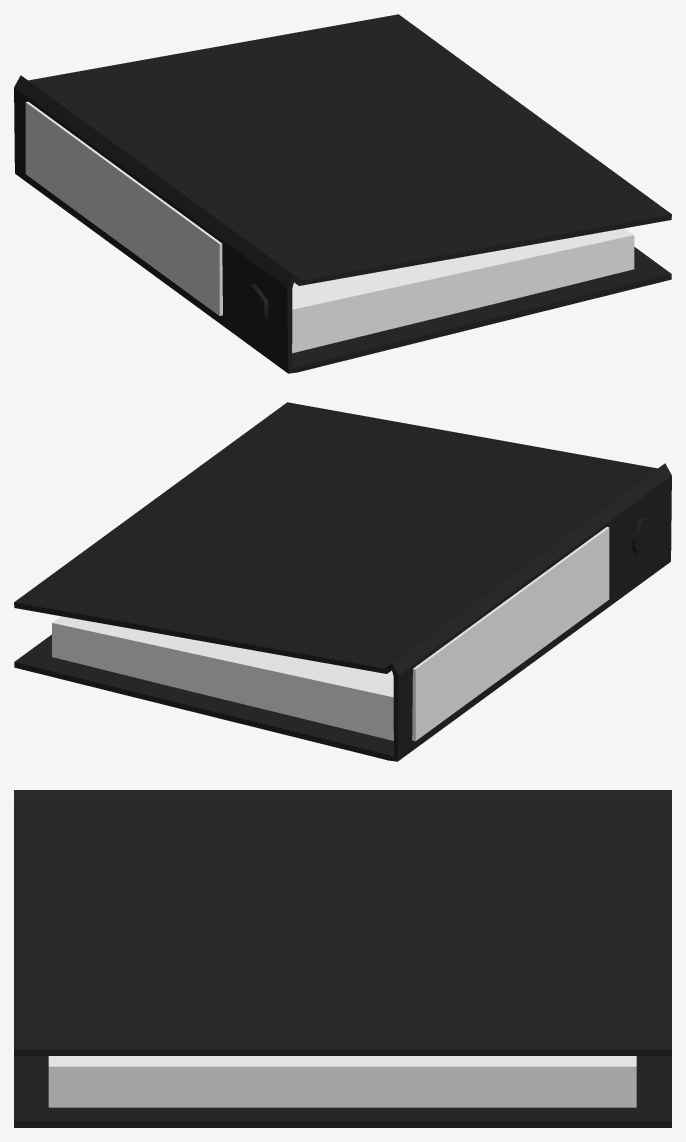
File: SM_folder_04.fbx
The picture shows the model from 3 angles, top to bottom: view 1: azimuth 30°, elevation 25°; view 2: azimuth 150°, elevation 25°; view 3: azimuth 270°, elevation 25°; orthographic projection. The views are drawn at different scales.
Visible parts, largest first — view 1: Box006; view 2: Box006; view 3: Box006.
Boxes of the visible parts, x1,y1,x2,y2 form: Box006: (14,14,671,373); Box006: (14,402,671,761); Box006: (14,790,671,1127).
Size of the model in its own units: 17.56 by 4.24 by 21.41.
